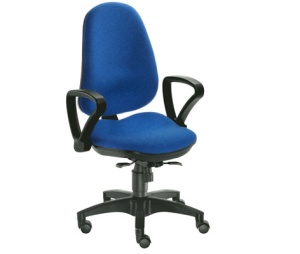chair: (65, 2, 211, 249)
